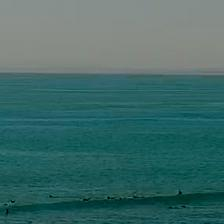surfer: (132, 195, 145, 198), (82, 197, 91, 201), (168, 206, 177, 209), (106, 196, 115, 199), (10, 200, 16, 204), (182, 205, 187, 209), (179, 190, 183, 194), (5, 210, 9, 214), (49, 196, 55, 198)
